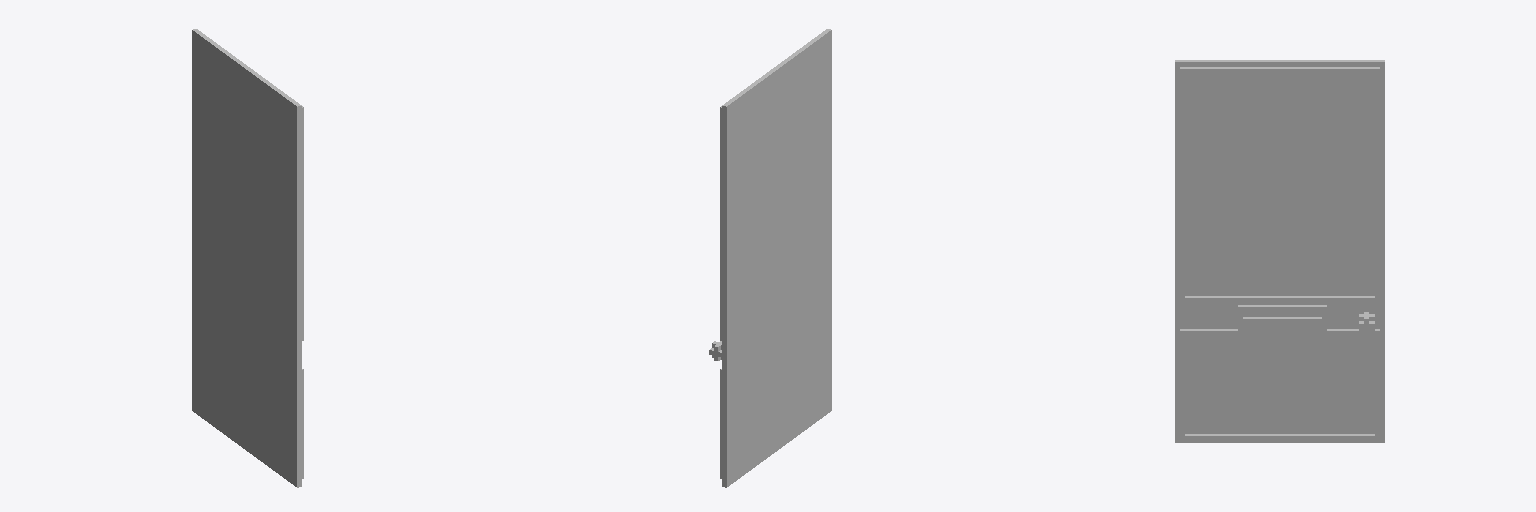
The model's file is puerta principal.obj.
3 views of the same model, side by side, from view 1: azimuth 30°, elevation 25°; view 2: azimuth 150°, elevation 25°; view 3: azimuth 270°, elevation 25° (orthographic).
Visible parts, largest first — view 1: object 1; view 2: object 1; view 3: object 1.
Part boxes in pixels (left/top/right/bottom): object 1: left=192, top=29, right=303, bottom=487; object 1: left=709, top=29, right=831, bottom=487; object 1: left=1175, top=60, right=1384, bottom=442.
Size of the model in its own units: 0.5 by 8 by 4.